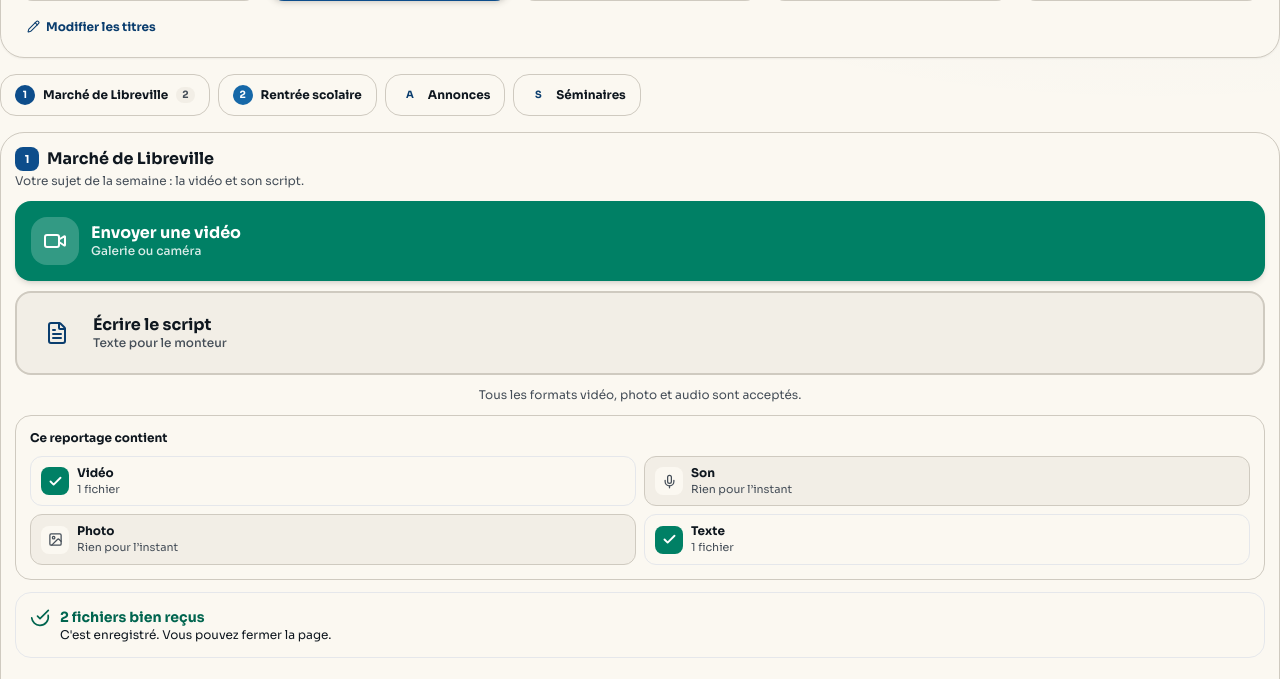
Scenario: MobileUploaderView › opens script bottom sheet modal on click
(page scrolled)
Click the button "Écrire le script Texte pour le monteur". click: (152, 324)
box: [15,291,1265,375]
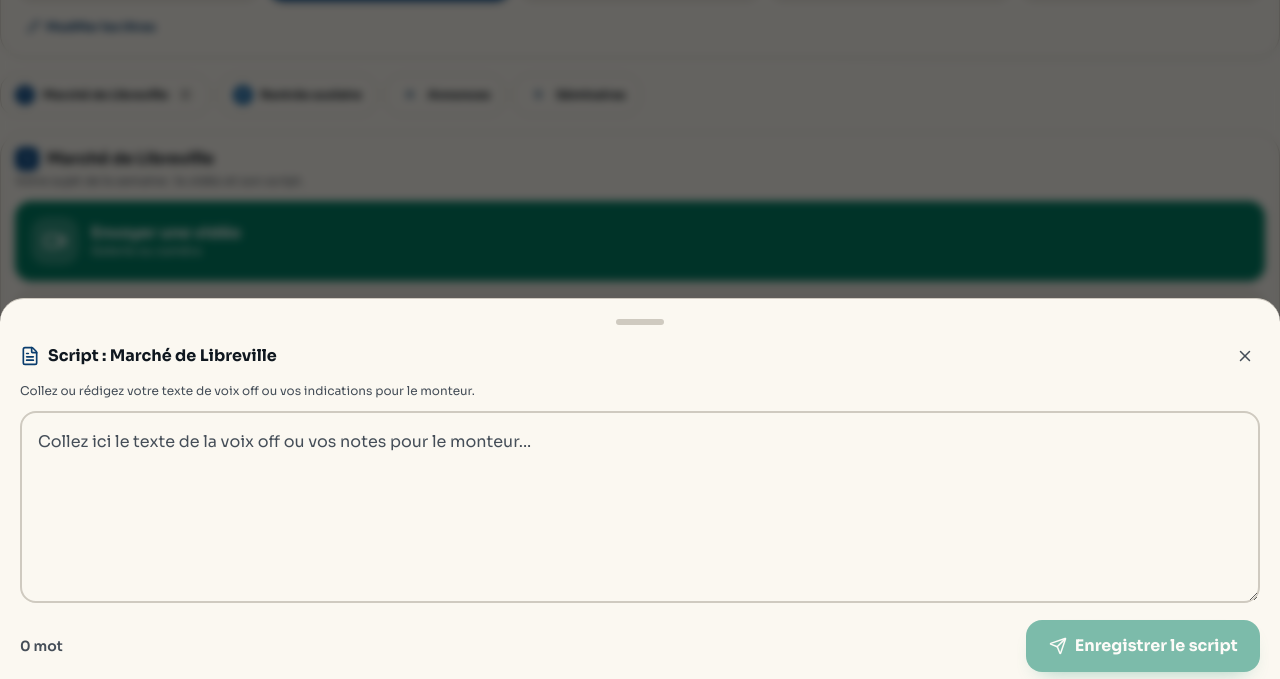
Expected: the heading "Script : Marché de Libreville" is shown, [48,344,277,368]
Expected: the text "Enregistrer le script" is shown, [1075,634,1238,658]
